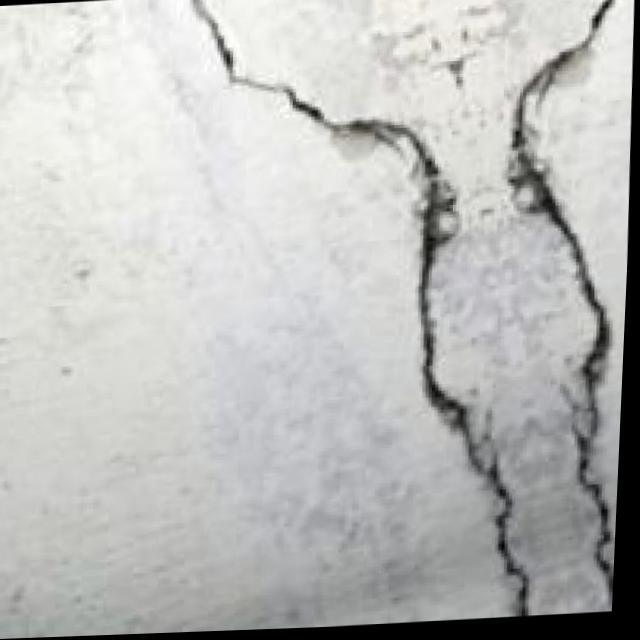Crack: (154, 0, 571, 635), (470, 0, 640, 622)
